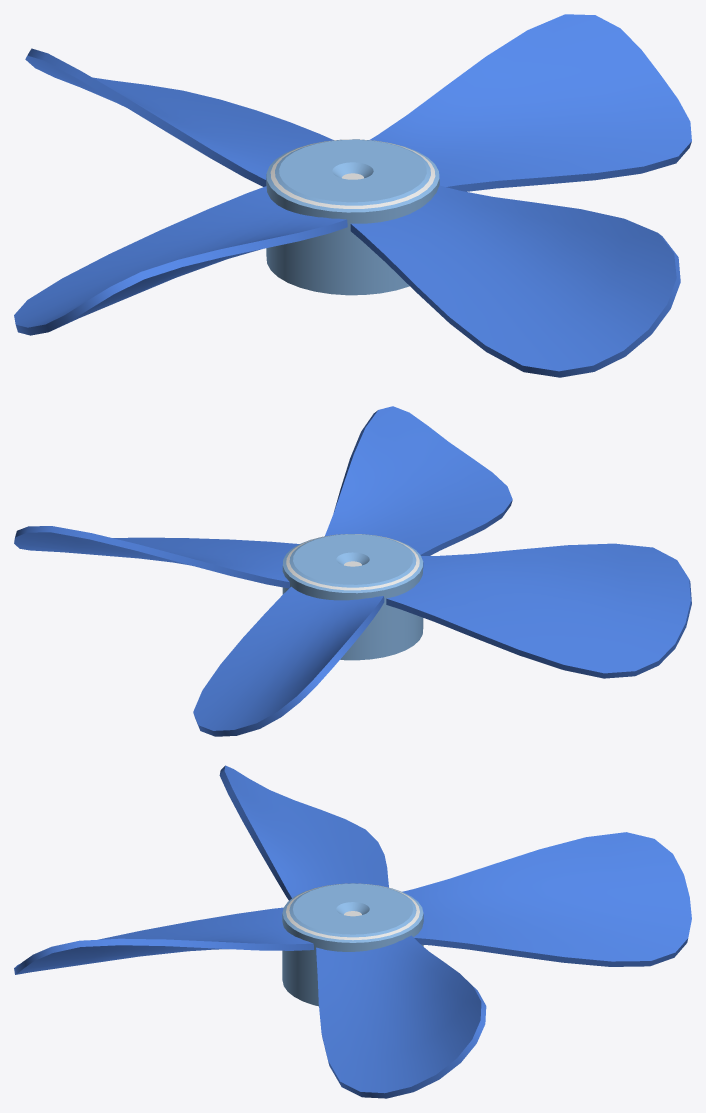
Rendered from Kodland Propeller.fbx.
The picture shows the model from 3 angles, top to bottom: view 1: azimuth 30°, elevation 25°; view 2: azimuth 150°, elevation 25°; view 3: azimuth 270°, elevation 25°; orthographic projection. The views are drawn at different scales.
Parts seen in each view (by area): view 1: Plane, Cylinder; view 2: Plane, Cylinder; view 3: Plane, Cylinder.
Part boxes in pixels (x1,y1,x2,y2): Plane: (14,14,691,377); Cylinder: (266,139,439,295); Plane: (14,406,691,736); Cylinder: (282,534,423,660); Plane: (14,765,691,1098); Cylinder: (282,883,423,1006).
Size of the model in its own units: 414 by 63.38 by 414.
